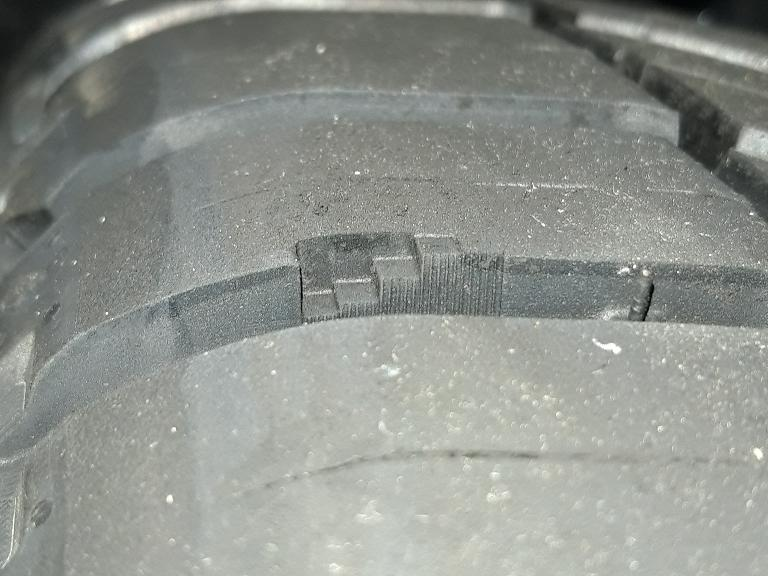temoin:75: (284, 223, 474, 336)
